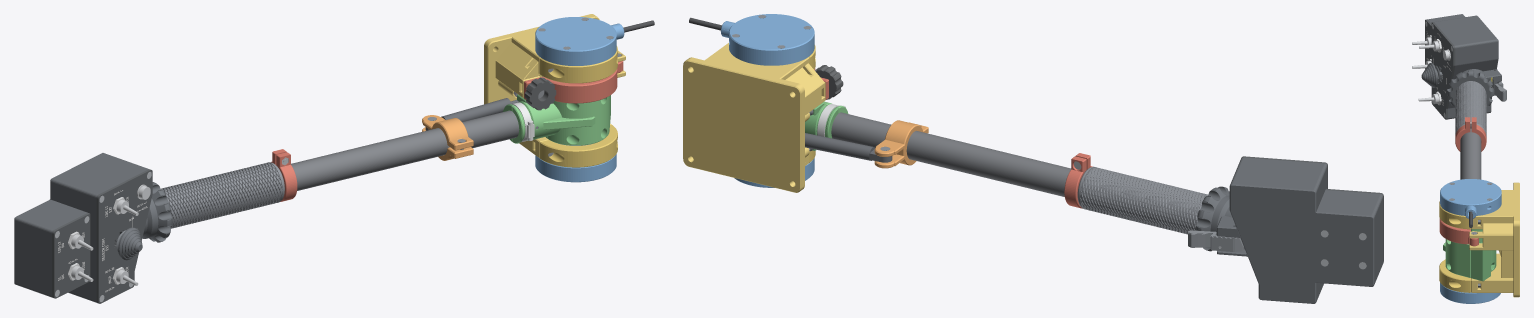
The model's file is HeliCollective_Assembly.glb.
The picture shows the model from 3 angles, left to right: view 1: azimuth 30°, elevation 25°; view 2: azimuth 150°, elevation 25°; view 3: azimuth 270°, elevation 25°; orthographic projection. The views are drawn at different scales.
Visible parts, largest first — view 1: H:Body, carbon_tube, H:Throttle grip, H:Lower panel, frame, cover_cable, lever_upper, H:Upper panel, cap_left, shoe, cap_right, cover_sensor (+6 smaller); view 2: H:Body, frame, carbon_tube, H:Throttle grip, cover_cable, strut_collar, gas_strut, H:Trigger, H:Friction collar, lever_lower, friction_knob; view 3: H:Body, frame, cover_cable, H:Throttle grip, H:Lower panel, carbon_tube, lever_upper, lever_lower, cover_sensor, cap_left, shoe, H:Friction collar (+8 smaller).
Boxes of the visible parts, x1=… form: H:Body: x1=14, y1=153, x2=172, y2=302; carbon_tube: x1=291, y1=110, x2=519, y2=190; H:Throttle grip: x1=161, y1=162, x2=284, y2=228; H:Lower panel: x1=96, y1=169, x2=152, y2=303; frame: x1=484, y1=14, x2=625, y2=158; cover_cable: x1=535, y1=17, x2=624, y2=65; lever_upper: x1=512, y1=96, x2=610, y2=145; H:Upper panel: x1=52, y1=213, x2=90, y2=298; cap_left: x1=540, y1=124, x2=617, y2=167; shoe: x1=524, y1=61, x2=623, y2=103; cap_right: x1=540, y1=46, x2=617, y2=83; cover_sensor: x1=535, y1=154, x2=616, y2=182; H:Body: x1=1196, y1=157, x2=1383, y2=303; frame: x1=683, y1=43, x2=825, y2=192; carbon_tube: x1=831, y1=112, x2=1071, y2=196; H:Throttle grip: x1=1077, y1=166, x2=1207, y2=234; cover_cable: x1=721, y1=14, x2=814, y2=65; strut_collar: x1=874, y1=120, x2=928, y2=168; gas_strut: x1=805, y1=133, x2=892, y2=162; H:Trigger: x1=1188, y1=230, x2=1244, y2=251; H:Friction collar: x1=1064, y1=153, x2=1092, y2=208; lever_lower: x1=805, y1=102, x2=838, y2=150; friction_knob: x1=815, y1=65, x2=843, y2=99; H:Body: x1=1428, y1=14, x2=1501, y2=119; frame: x1=1469, y1=182, x2=1519, y2=297; cover_cable: x1=1440, y1=179, x2=1501, y2=218; H:Throttle grip: x1=1455, y1=81, x2=1486, y2=136; H:Lower panel: x1=1431, y1=22, x2=1455, y2=119; carbon_tube: x1=1460, y1=128, x2=1481, y2=179; lever_upper: x1=1443, y1=229, x2=1470, y2=277; lever_lower: x1=1471, y1=229, x2=1496, y2=281; cover_sensor: x1=1440, y1=282, x2=1500, y2=303; cap_left: x1=1439, y1=259, x2=1470, y2=292; shoe: x1=1439, y1=218, x2=1478, y2=246; H:Friction collar: x1=1455, y1=117, x2=1486, y2=151.
Bounding box in the file's own units: 666 × 130 × 128.
